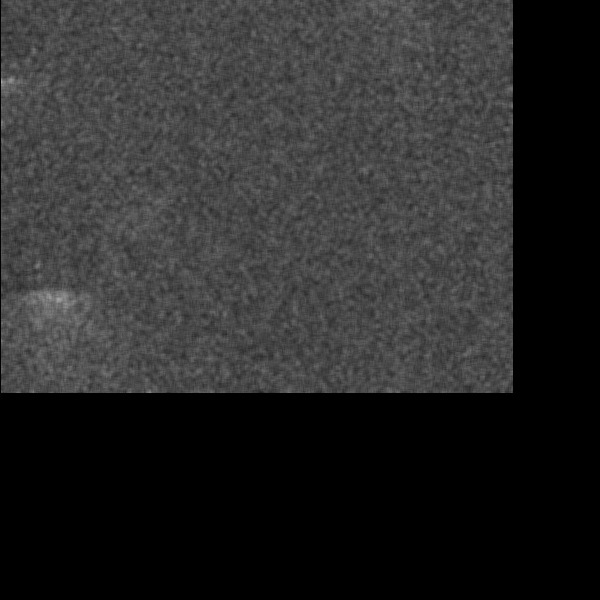spark: (410, 239, 431, 268)
